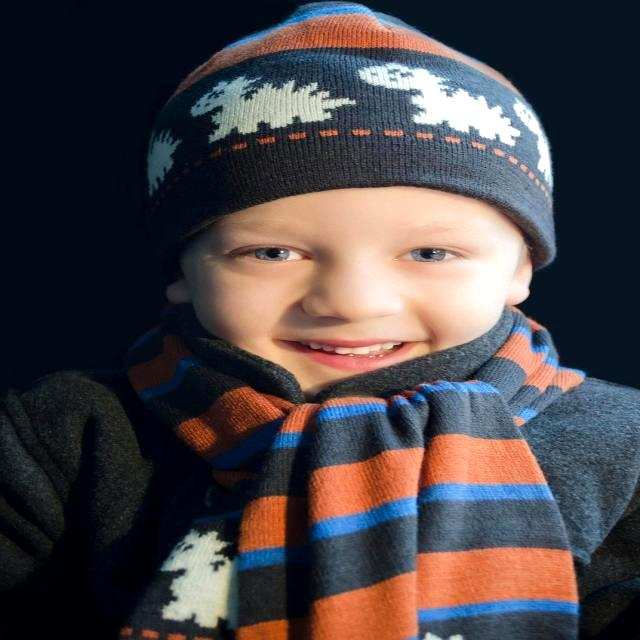no_hard_hat: (146, 2, 555, 268)
person: (0, 6, 639, 640)
